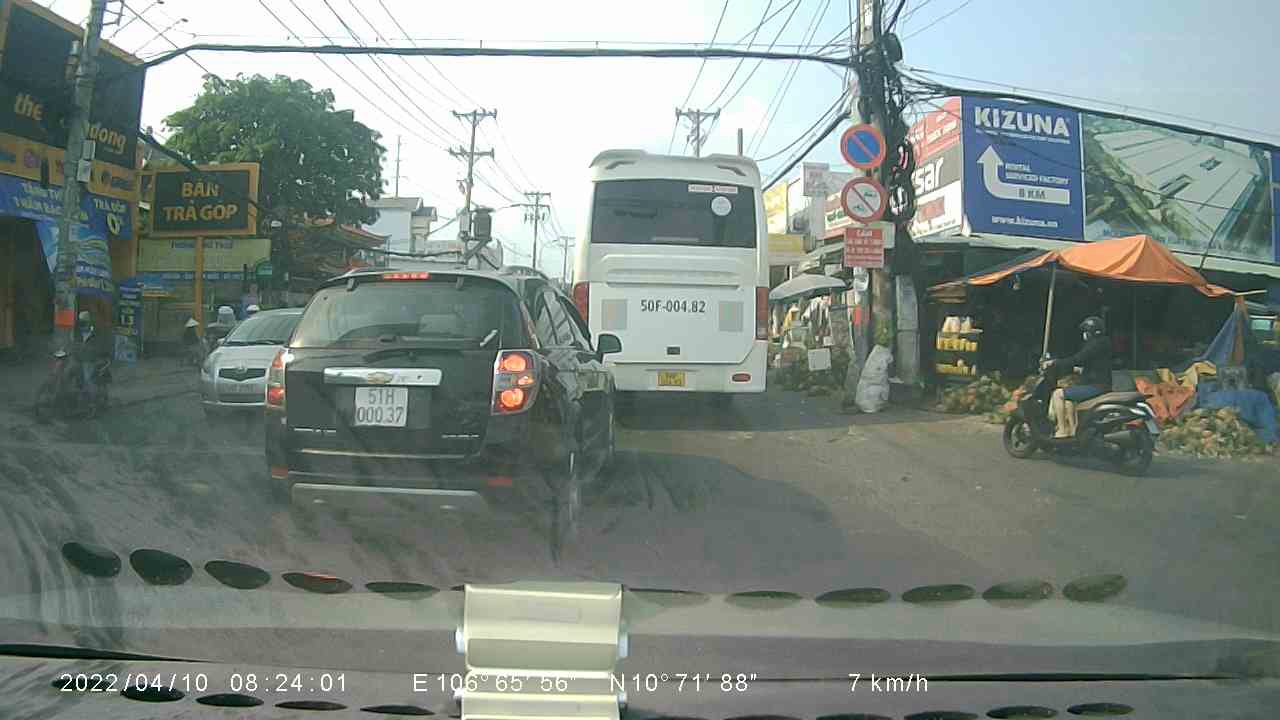Bien khac: (839, 175, 890, 222)
Cam do xe: (839, 121, 890, 173)
